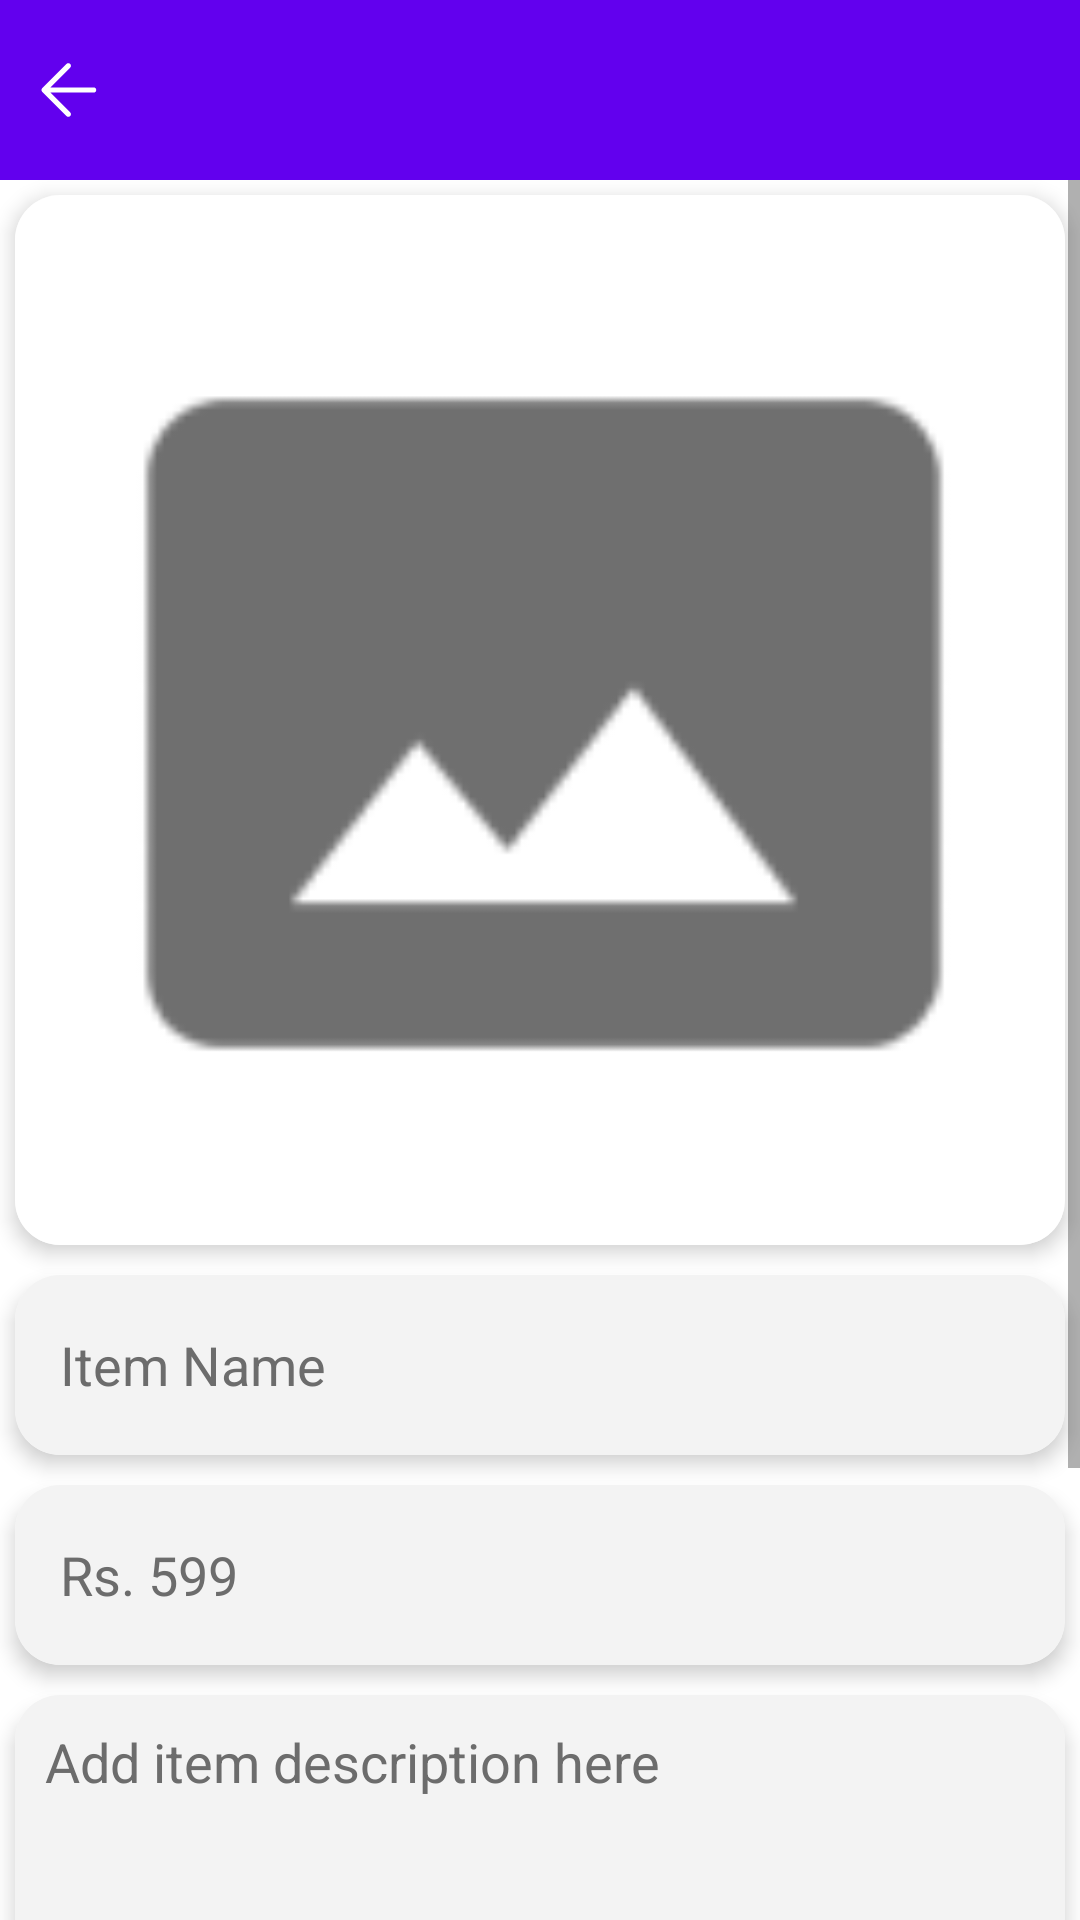

Icons on this 1080w x 1920h Android screen, each with its box as region(x1, y1, x2, y2):
back: region(41, 63, 97, 117)
